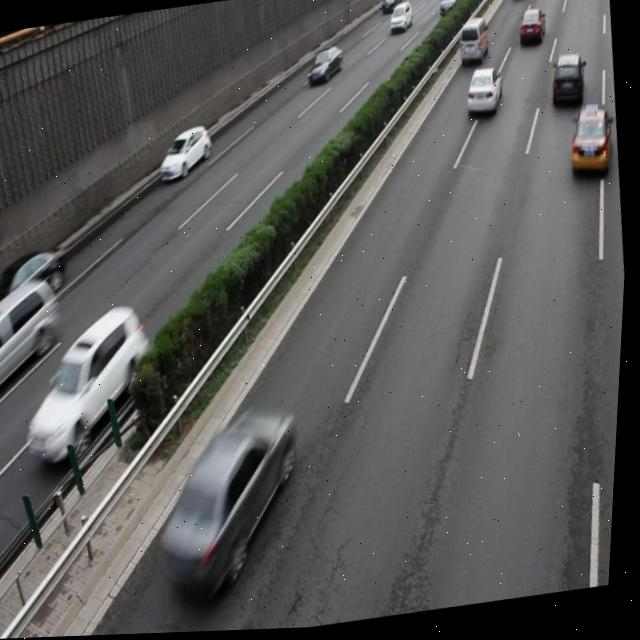car: (147, 402, 314, 608), (19, 300, 166, 468), (0, 243, 73, 318), (564, 105, 615, 182), (156, 125, 216, 186), (545, 53, 588, 115), (461, 67, 506, 122), (303, 45, 345, 90)
truck: (0, 276, 68, 396)
